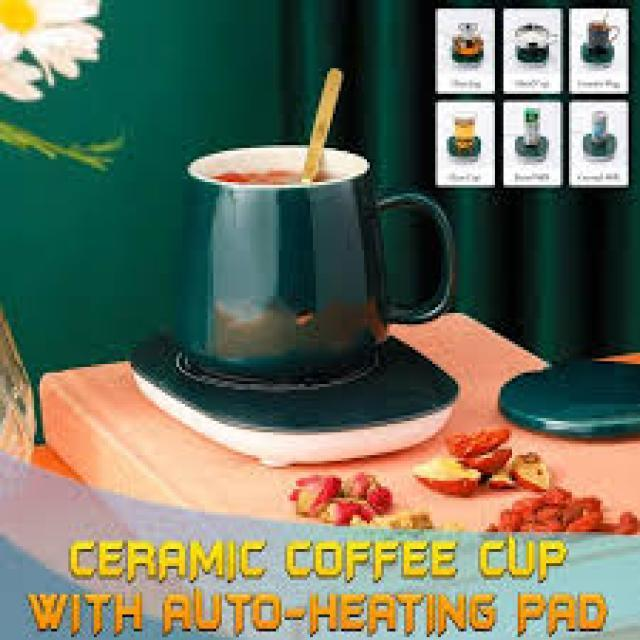taza: (163, 136, 463, 407)
